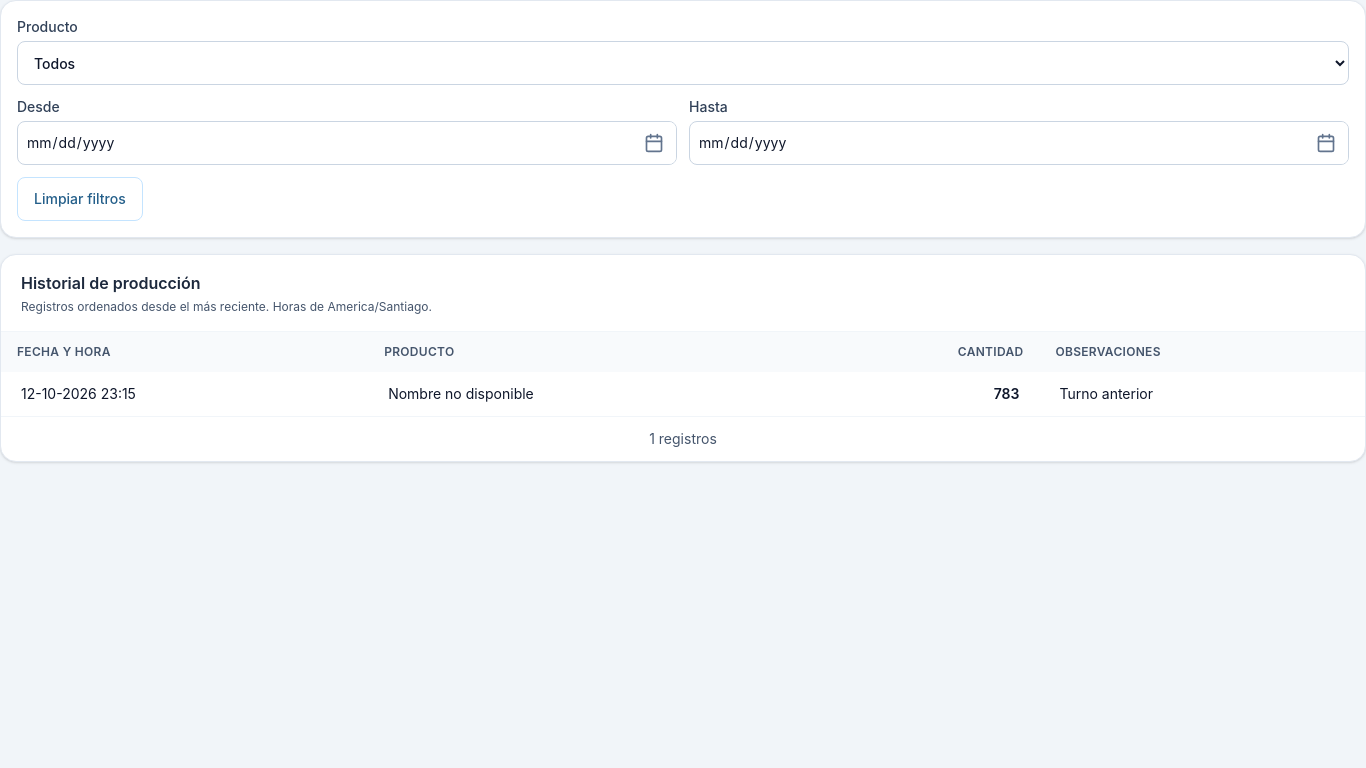
Test: A1-05 · un fallo tras éxito de historial oculta las filas anteriores
Expected: the text "Turno anterior" is shown, [1059, 385, 1153, 402]
Step 1. Type "2026-10-01" into the date field labelled "Desde" → coordinates (347, 143), box [17, 121, 677, 165]
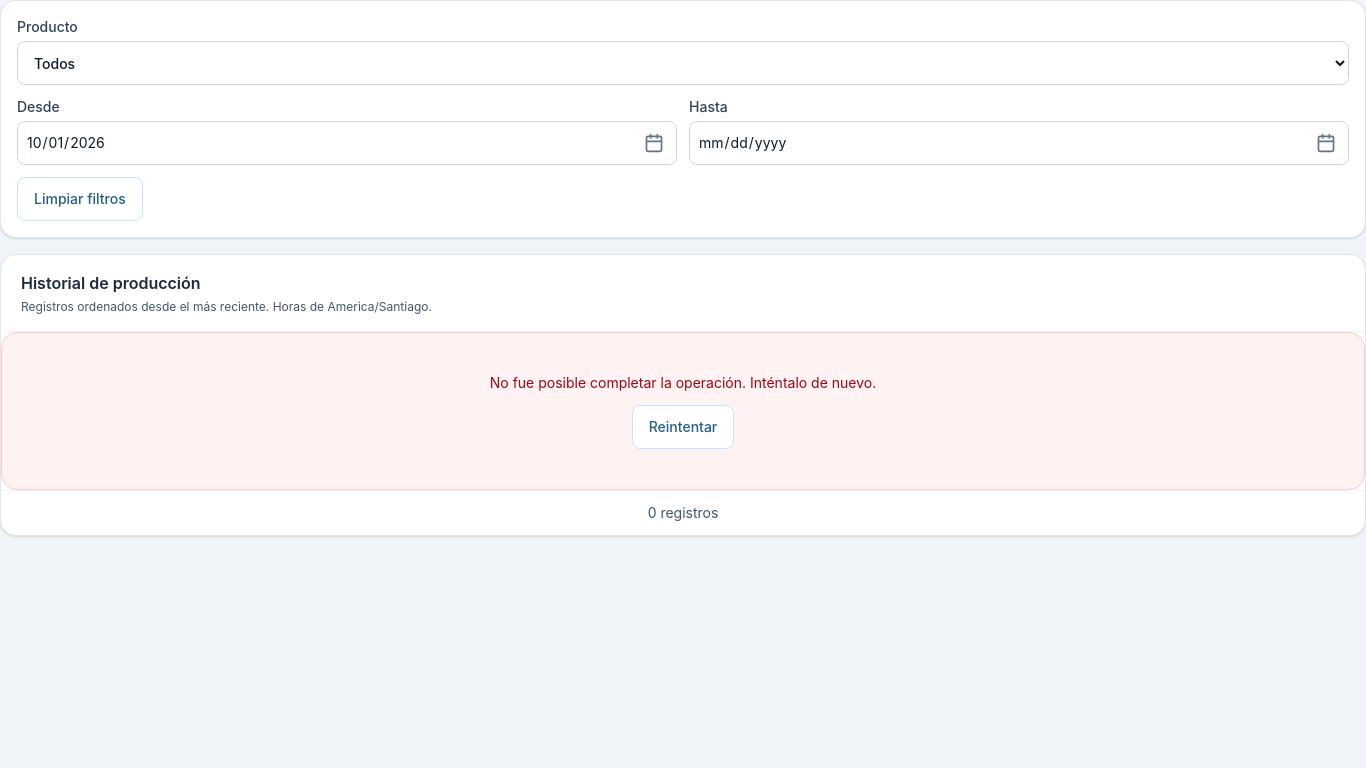
Expected: the message "No fue posible completar la operación. Inténtalo de nuevo. Reintentar" is shown, [1, 332, 1365, 490]
Expected: the text "Turno anterior" is gone
